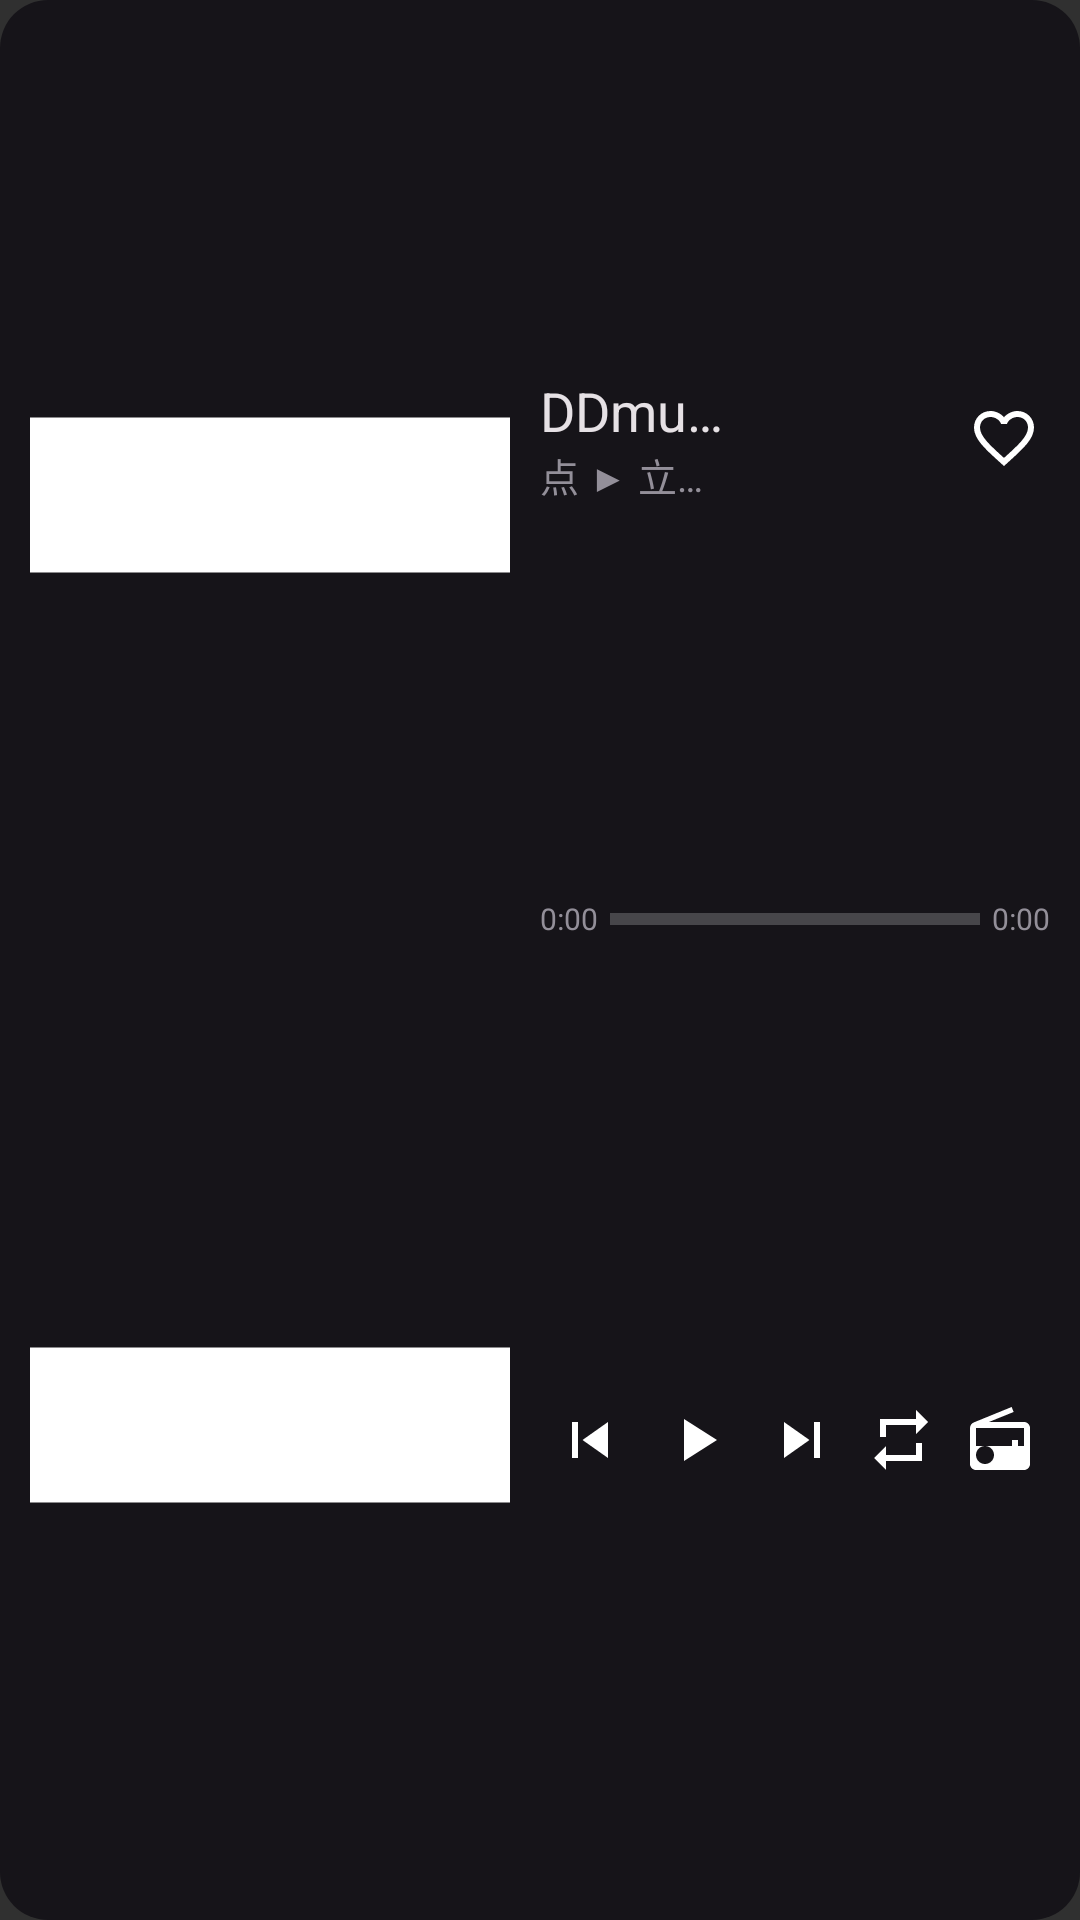

Screen size 1080x1920. Icon name, then its box in pixels as (x1, y1, x2, y2):
上一首: (572, 1422, 608, 1458)
下一首: (784, 1422, 820, 1458)
喜欢: (974, 411, 1034, 466)
播放/暂停: (684, 1419, 717, 1461)
播放模式: (874, 1410, 928, 1470)
随机电台: (970, 1407, 1030, 1470)
